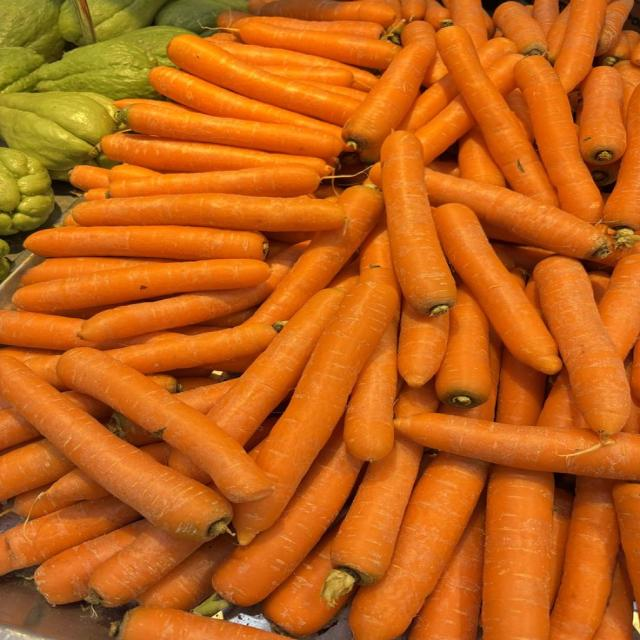carrot: (234, 281, 398, 544), (0, 357, 231, 540), (57, 348, 273, 502), (213, 428, 362, 606), (349, 453, 488, 639), (82, 243, 306, 340), (434, 203, 561, 374), (436, 25, 557, 204), (207, 288, 344, 444), (253, 185, 384, 322), (534, 256, 630, 437), (167, 35, 358, 125), (425, 169, 610, 259), (322, 437, 421, 603), (395, 413, 639, 480), (514, 56, 603, 223), (12, 258, 270, 313), (74, 192, 345, 244), (380, 131, 455, 315), (149, 66, 339, 136), (343, 21, 435, 162), (482, 466, 553, 638), (120, 104, 342, 157), (550, 477, 619, 639), (0, 496, 139, 574), (407, 502, 485, 639), (101, 132, 332, 176), (85, 521, 201, 607), (34, 520, 146, 605), (261, 531, 350, 636), (108, 322, 281, 373), (239, 17, 400, 69), (25, 226, 267, 260), (344, 317, 398, 462), (218, 42, 377, 91), (136, 536, 233, 610), (435, 284, 491, 408), (109, 164, 319, 197), (114, 606, 280, 639), (603, 87, 639, 231), (552, 0, 607, 92), (12, 468, 108, 518), (14, 468, 108, 518), (579, 66, 626, 165), (0, 439, 73, 500), (398, 300, 449, 387), (414, 94, 476, 164), (20, 257, 166, 286), (259, 0, 399, 27), (0, 310, 92, 350), (497, 350, 546, 424), (594, 554, 633, 639), (400, 75, 459, 131), (357, 216, 399, 287), (493, 0, 546, 56), (549, 487, 573, 609), (613, 482, 639, 594), (458, 127, 506, 187), (260, 16, 385, 39), (262, 65, 353, 92), (595, 0, 633, 56), (180, 378, 236, 413), (447, 0, 487, 48), (0, 406, 39, 450), (395, 381, 439, 416), (506, 89, 534, 142), (600, 30, 639, 65), (547, 4, 570, 63), (307, 80, 366, 102), (202, 305, 257, 328), (109, 163, 160, 185), (69, 165, 109, 191), (113, 98, 193, 111), (533, 0, 559, 37), (587, 159, 621, 187), (0, 346, 60, 361), (423, 0, 451, 30), (587, 271, 610, 304), (629, 342, 639, 403), (401, 0, 426, 22), (623, 31, 639, 64), (84, 188, 107, 201)
